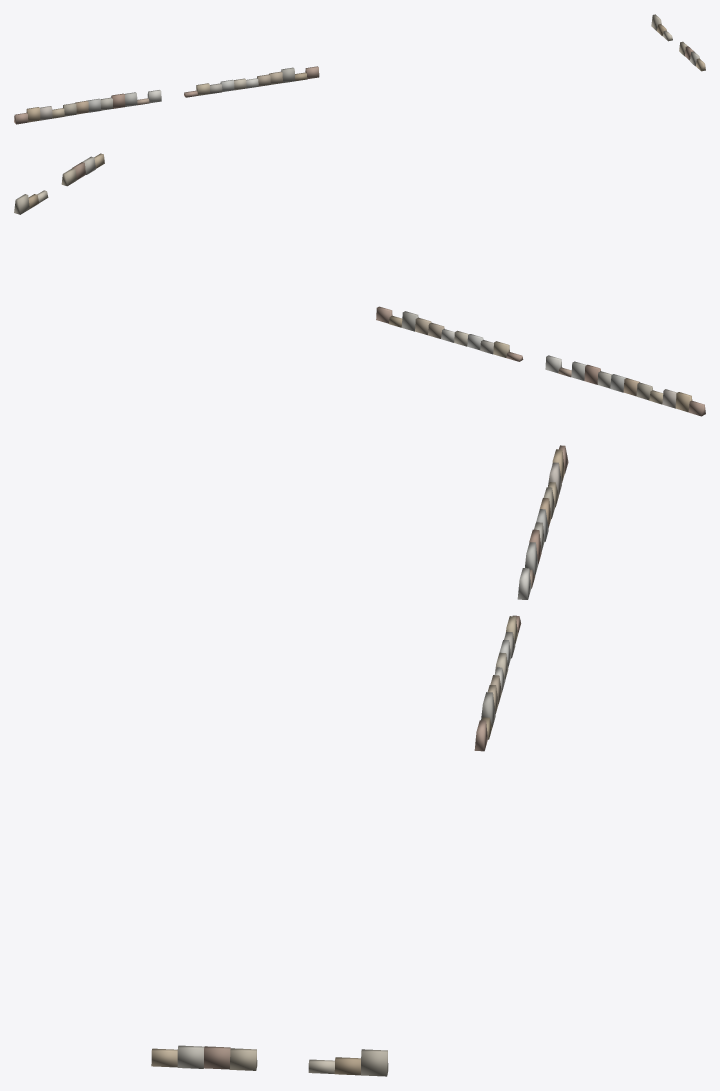
File: farm_4_12_collision.glb
3 renders of one model, top to bottom at view 1: azimuth 30°, elevation 25°; view 2: azimuth 150°, elevation 25°; view 3: azimuth 270°, elevation 25°, orthographic. The views are drawn at different scales.
Parts seen in each view (by area): view 1: geometry_0; view 2: geometry_0; view 3: geometry_0.
Part boxes in pixels (left/top/right/bottom): geometry_0: left=14, top=14, right=705, bottom=124; geometry_0: left=14, top=153, right=705, bottom=416; geometry_0: left=151, top=445, right=568, bottom=1076.
Size of the model in its own units: 81.73 by 3.56 by 24.67.
